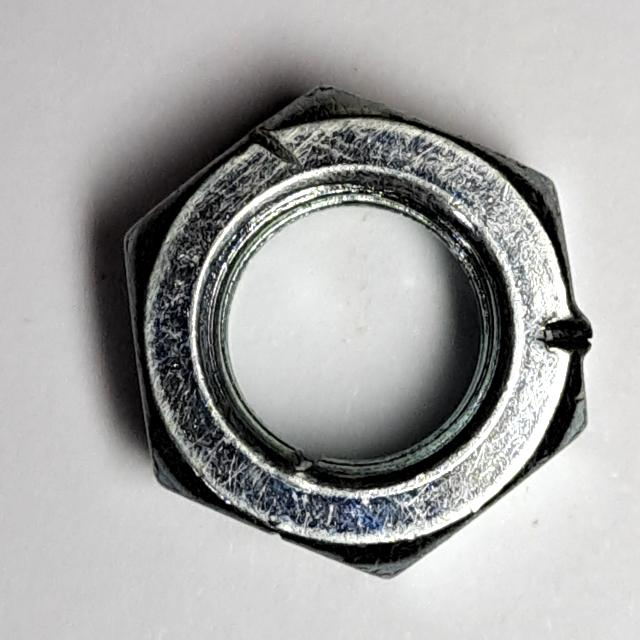Scratches: (100, 68, 608, 593)
